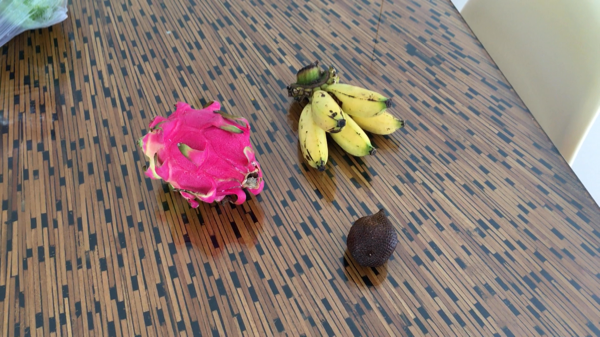banana: (289, 61, 401, 174)
dragon fruit: (142, 100, 264, 213)
snake fruit: (348, 214, 400, 263)
